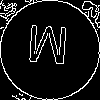M: (25, 25, 70, 74)
